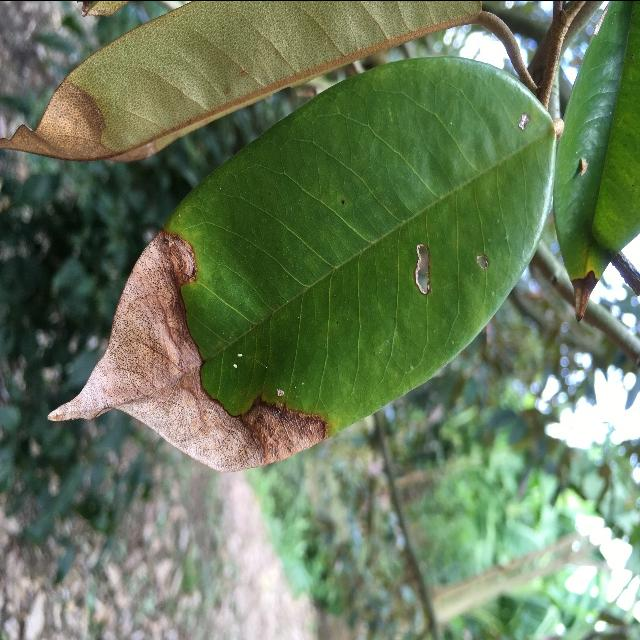Leaf Blight: (37, 41, 573, 480)
